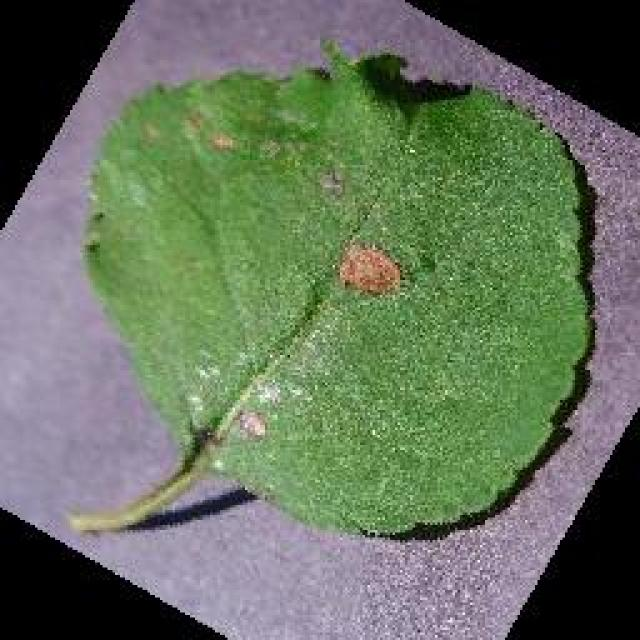apple black rot: (68, 40, 600, 545)
